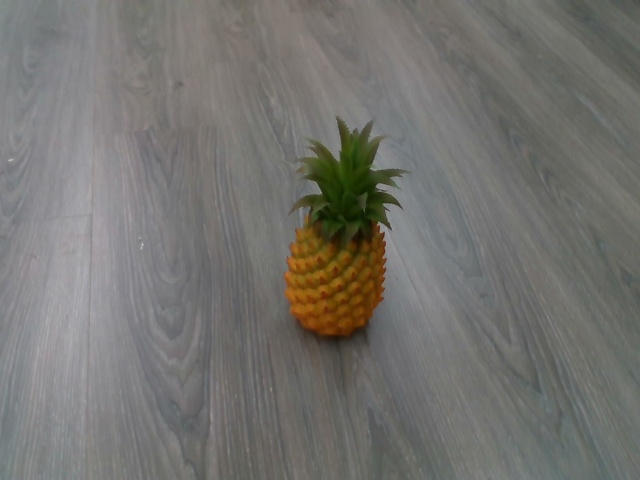pineapple: (278, 116, 411, 347)
